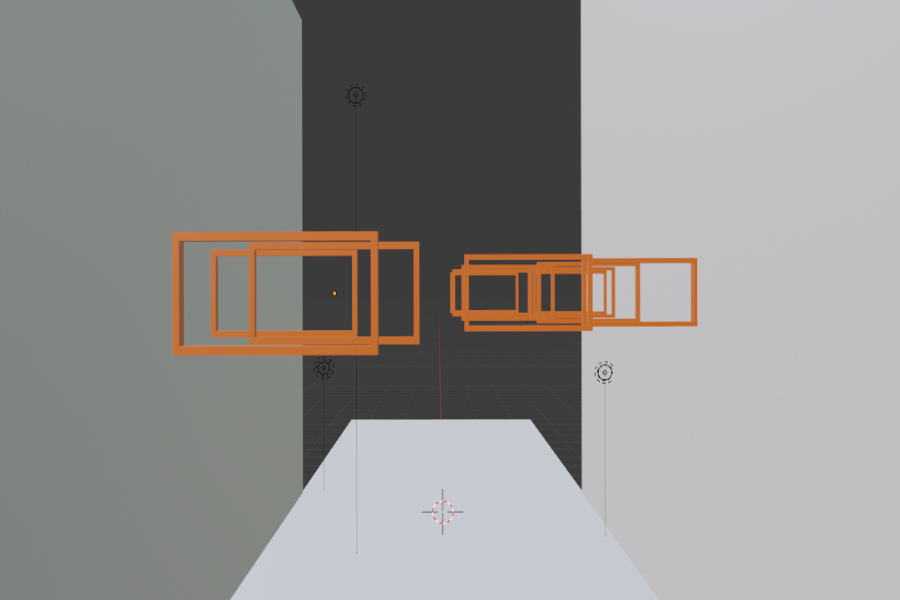GATE: (165, 231, 381, 360), (246, 244, 428, 344), (208, 251, 357, 336), (465, 251, 594, 336)
